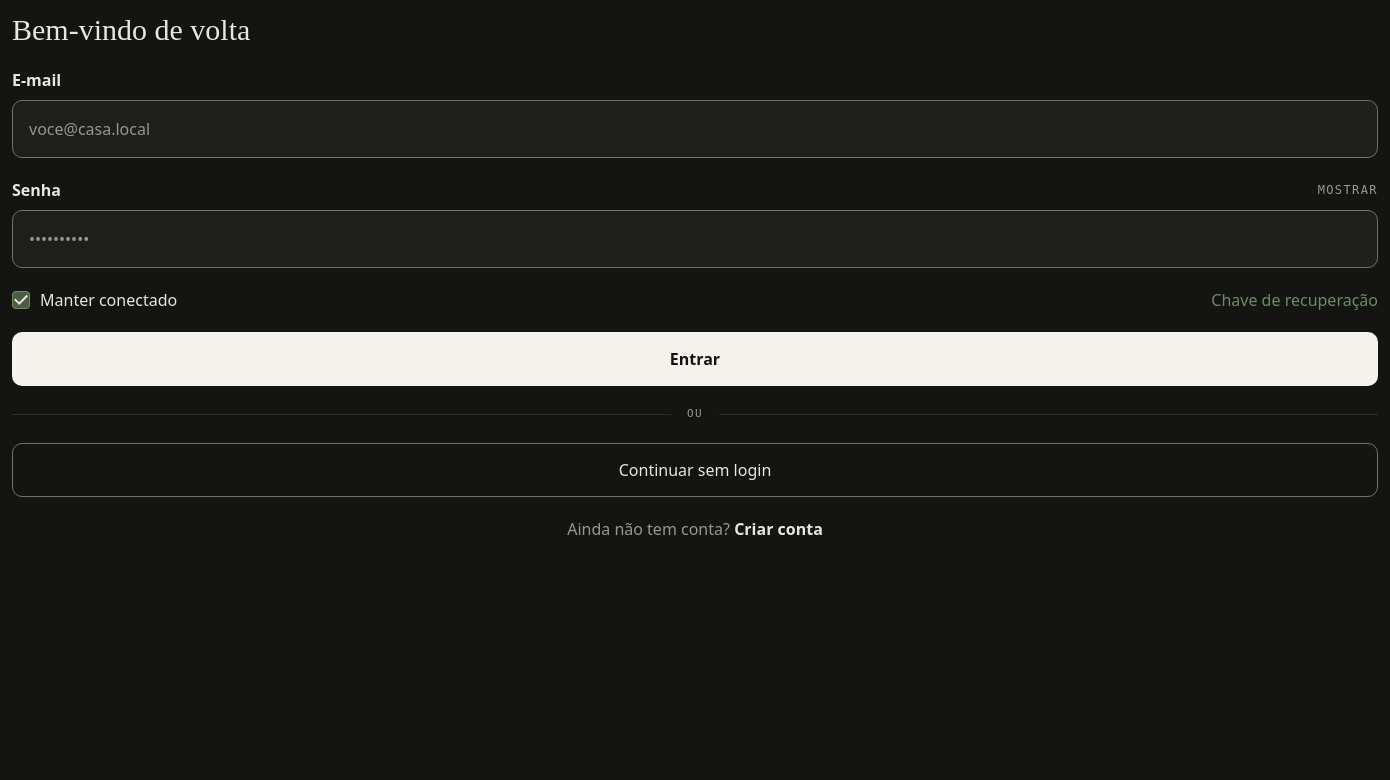
Scenario: AuthForm — criar conta › switching between the two forms clears an old error
Type "ana@casa.local" into the field labelled "E-mail" at (695, 129), box [12,100,1378,158]
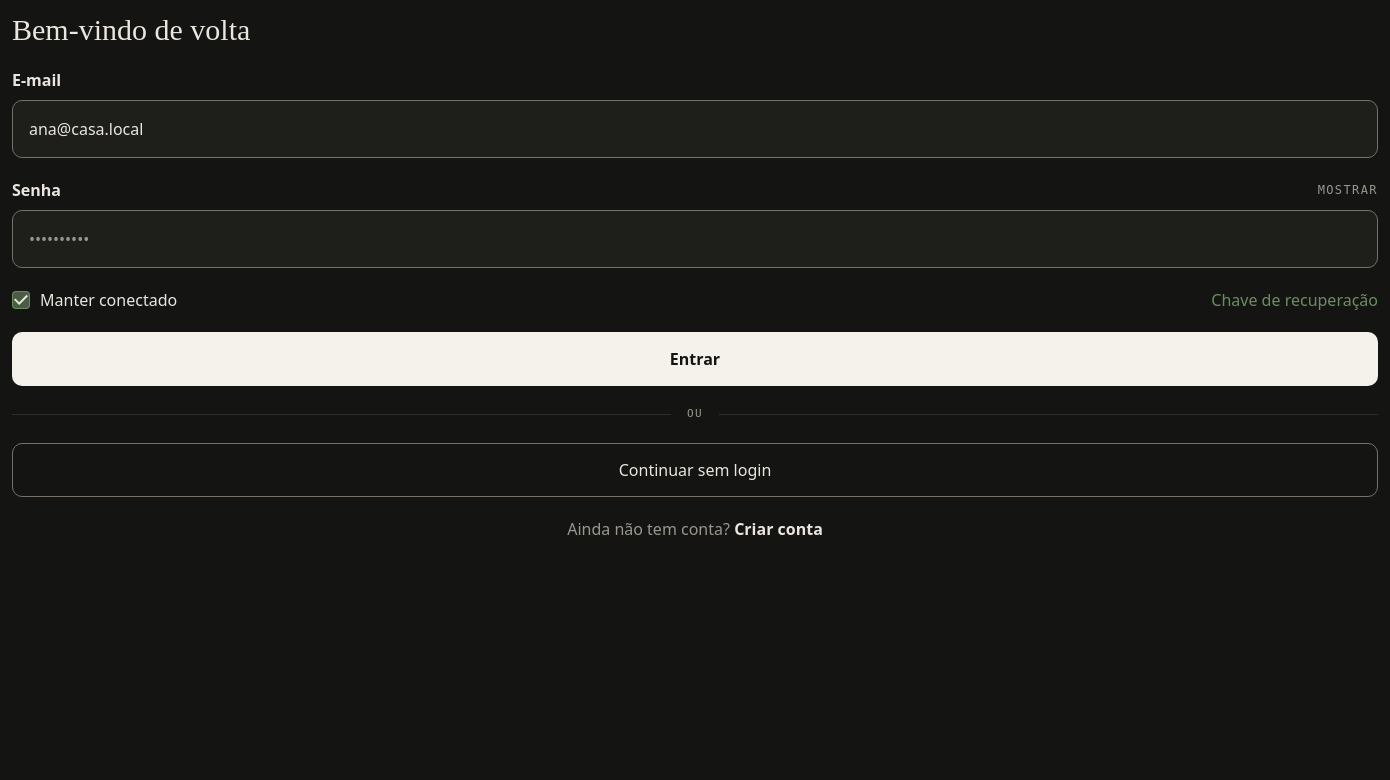
Type "senha-forte-1" into the password field labelled "Senha" at (695, 239), box [12,210,1378,268]
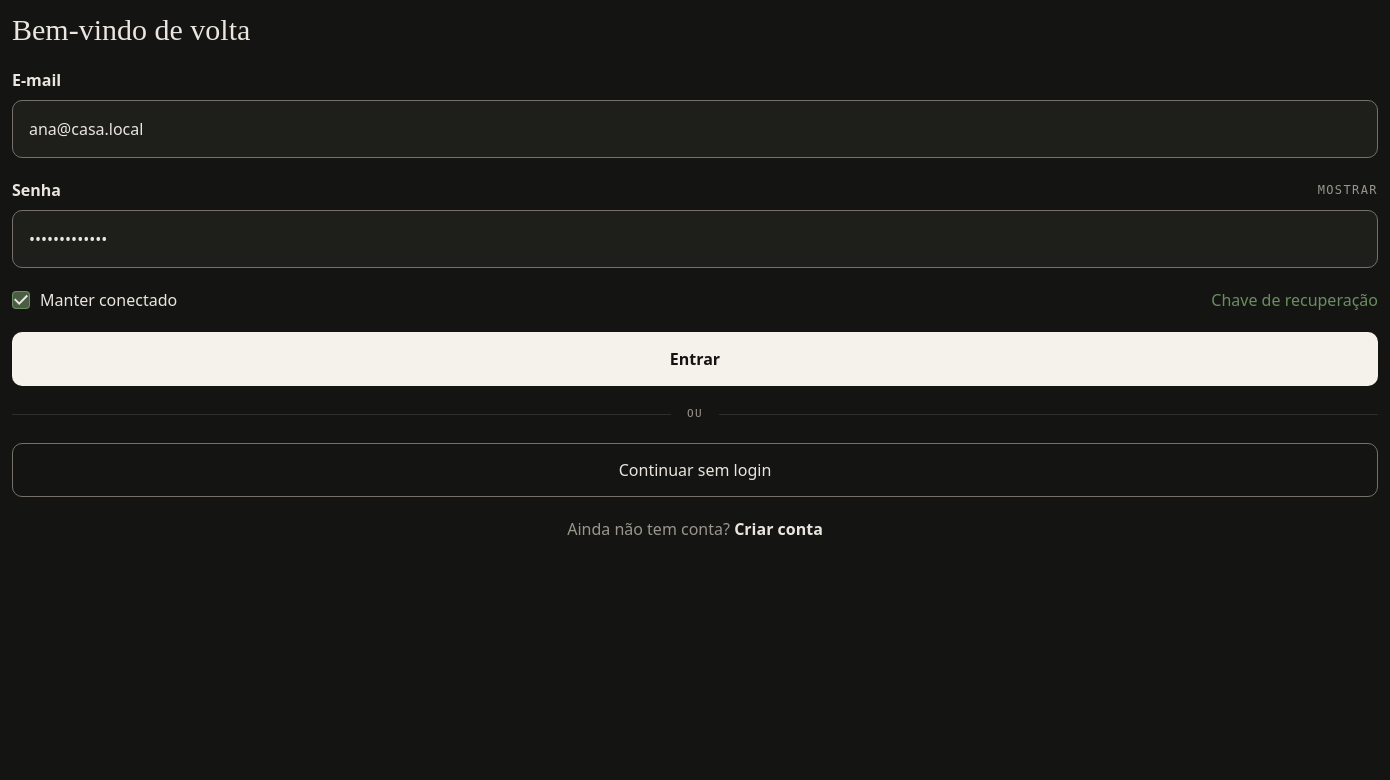
Submit the form labelled "E-mail", box [12,68,1378,386]
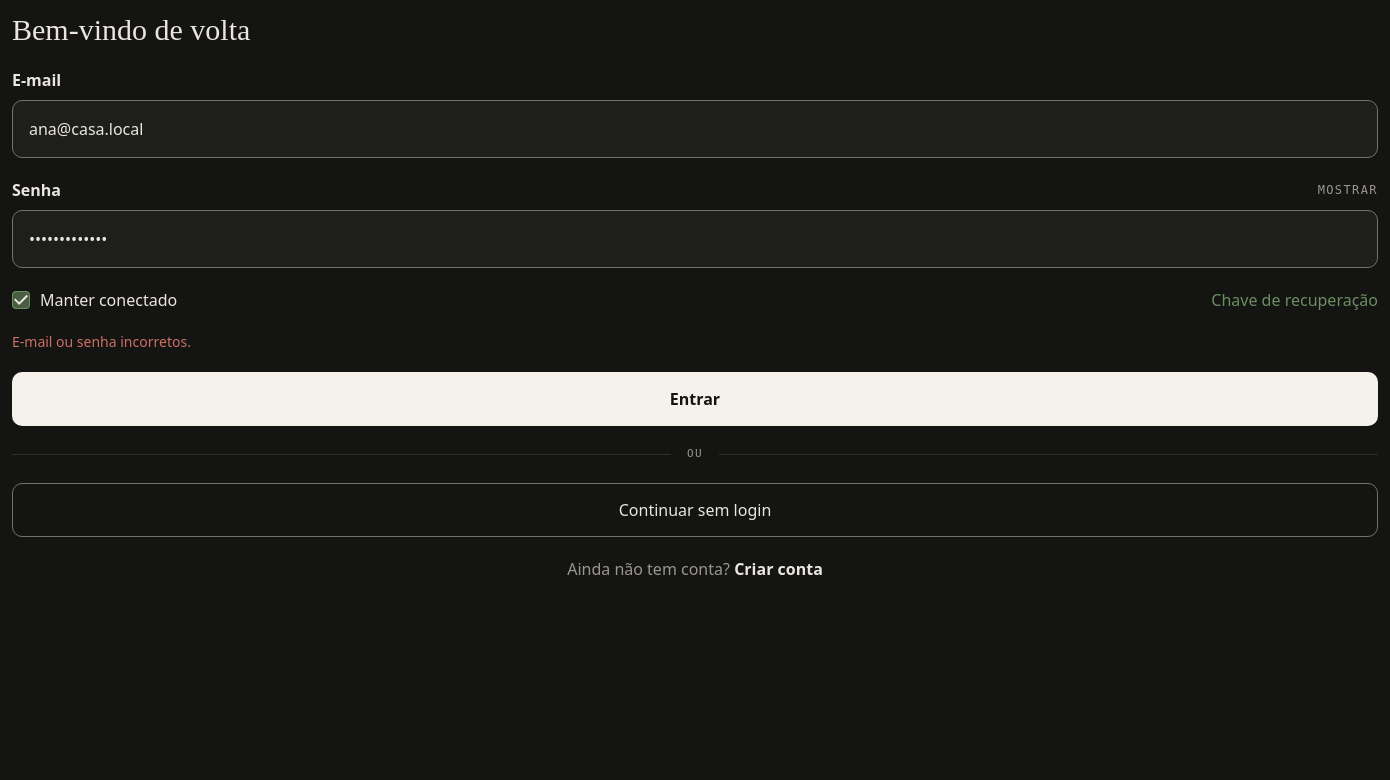
Expected: the message "E-mail ou senha incorretos." is shown, [12,332,191,351]
Click the button "Criar conta" at (778, 568), box [734,556,823,580]
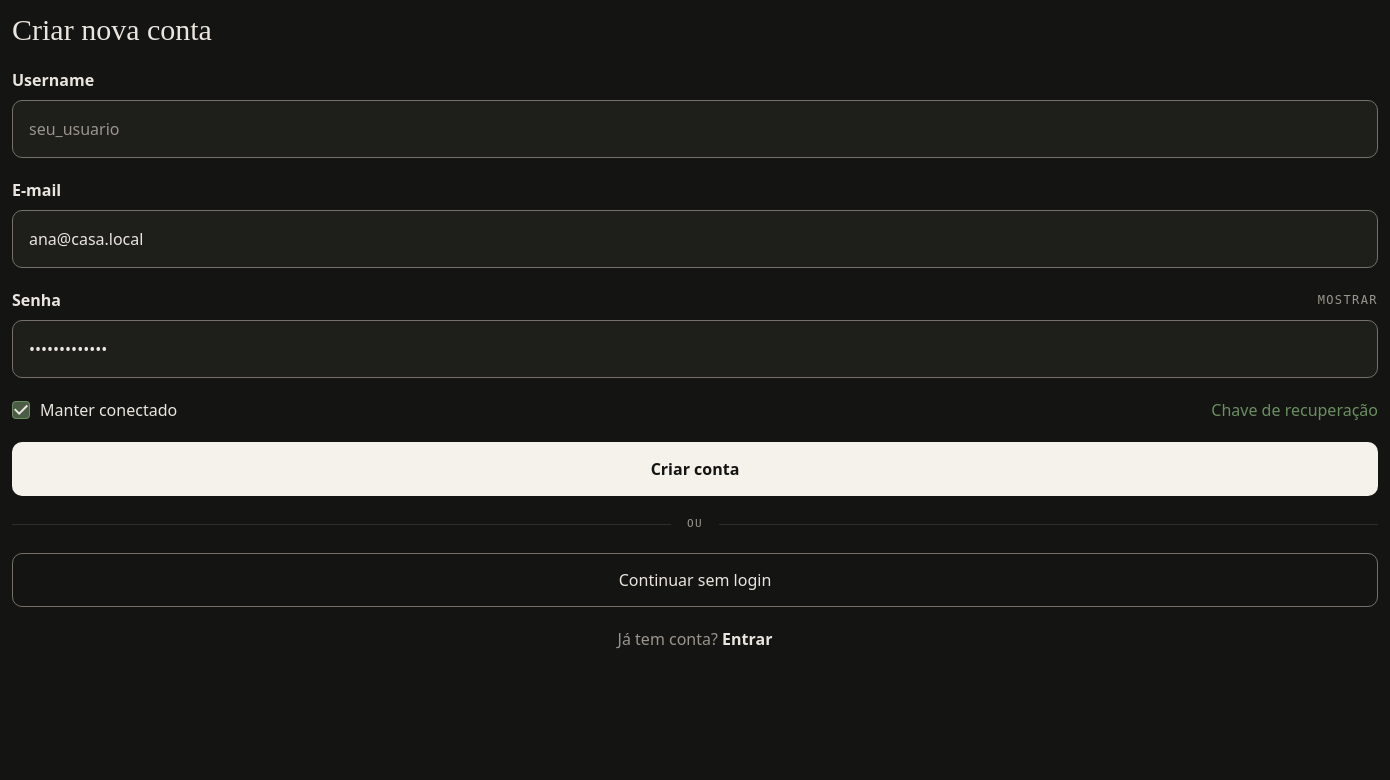
Expected: the message with test id "form-error" is gone
